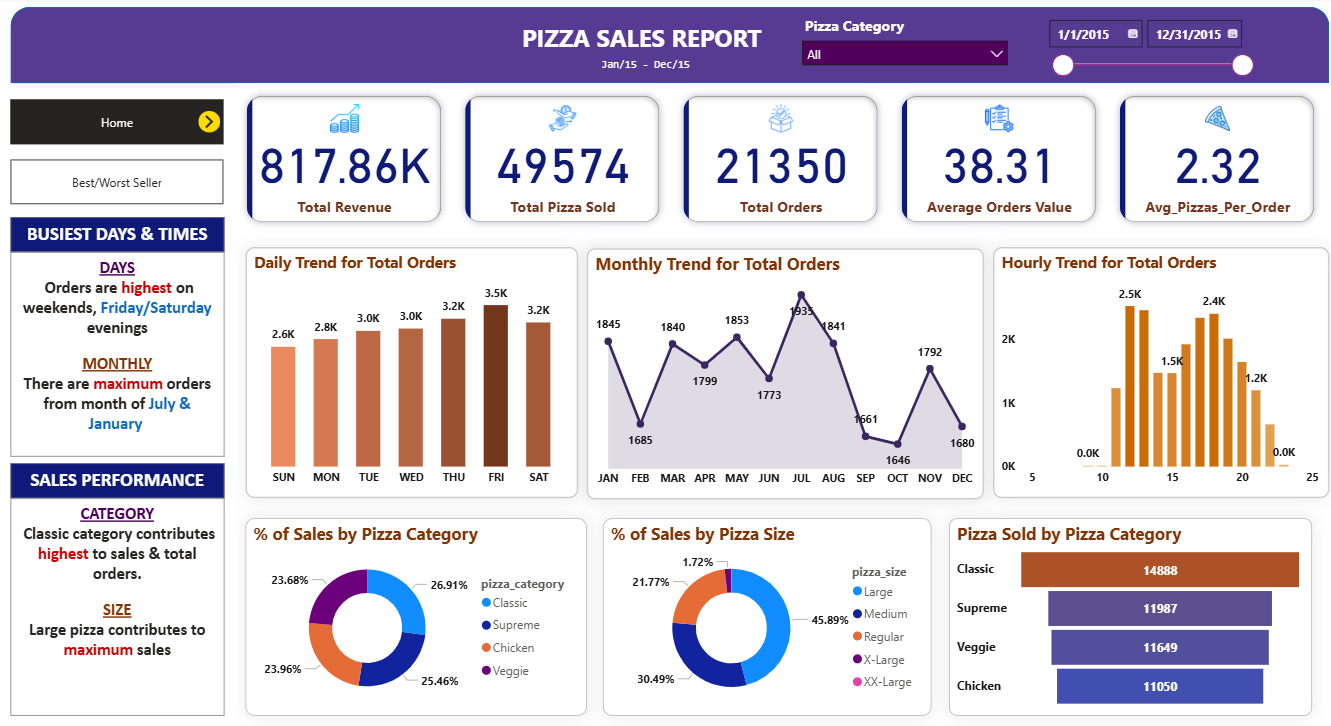

The page's visual inventory and layout, read from the dashboard file:
{"tool":"powerbi","page":{"name":"Home","canvas":[1500,820],"ordinal":0},"visuals":[{"type":"shape","box":[14,11.2,1474.3,85.2],"z":0},{"type":"cardVisual","fields":{"Data":["Measures_table.Total Revenue","Measures_table.Total Pizza Sold","Measures_table.Total Orders","Measures_table.Average Orders Value","Measures_table.Avg_Pizzas_Per_Order"]},"box":[264.1,96.4,1224.1,169.1],"z":1000},{"type":"textbox","box":[566,22.4,307.4,48.9],"z":2000},{"type":"textbox","box":[648.4,60.1,150.9,36.3],"z":3000},{"type":"columnChart","title":"Daily Trend for Total Orders","fields":{"Y":["Measures_table.Total Orders"],"Category":["pizza_sales_csv_file.Order_day"]},"box":[276.7,279.5,371.7,280.9],"z":4000},{"type":"areaChart","title":"Monthly Trend for Total Orders ","fields":{"Category":["pizza_sales_csv_file.Order_month"],"Y":["Measures_table.Total Orders"]},"box":[658.2,280.9,444.4,280.9],"z":5000},{"type":"donutChart","title":"% of Sales by Pizza Category","fields":{"Category":["pizza_sales_csv_file.pizza_category"],"Y":["Measures_table.Total Revenue"]},"box":[276.7,582.7,381.5,220.8],"z":6000},{"type":"donutChart","title":"% of Sales by Pizza Size","fields":{"Y":["Measures_table.Total Revenue"],"Category":["pizza_sales_csv_file.pizza_size"]},"box":[676.3,582.7,367.5,220.8],"z":7000},{"type":"funnel","title":"Pizza Sold by Pizza Category","fields":{"Y":["Measures_table.Total Pizza Sold"],"Category":["pizza_sales_csv_file.pizza_category"]},"box":[1063.4,582.7,405.3,220.8],"z":8000},{"type":"textbox","box":[14,245.9,239,39.1],"z":9000},{"type":"textbox","box":[14,521.2,239,39.1],"z":10000},{"type":"textbox","box":[14,285.1,239,229.2],"z":11000},{"type":"textbox","box":[14,560.4,239,243.2],"z":12000},{"type":"slicer","fields":{"Values":["pizza_sales_csv_file.pizza_category"]},"box":[888.9,16,250.2,77.1],"z":13000},{"type":"slicer","fields":{"Values":["pizza_sales_csv_file.order_date"]},"box":[1162.5,16,250.2,77.1],"z":14000},{"type":"pageNavigator","box":[14,114.6,239,50.3],"z":15000},{"type":"pageNavigator","box":[14,181.7,239,50.3],"z":16000},{"type":"image","box":[219.4,120.2,33.5,39.1],"z":17000},{"type":"columnChart","title":"Hourly Trend for Total Orders","fields":{"Category":["pizza_sales_csv_file.Order_Hour"],"Y":["Measures_table.Total Orders"]},"box":[1112.3,279.5,375.9,280.9],"z":18000}]}

Visuals, with their boxes in screenshot pixels (x1, y1, x2, y2), scaled from the page's 1500x820 canvas onto the 1331x726 screenshot:
shape: {"x1": 12, "y1": 10, "x2": 1321, "y2": 85}
cardVisual - Measures_table.Total Revenue x Measures_table.Total Pizza Sold: {"x1": 234, "y1": 85, "x2": 1321, "y2": 235}
textbox: {"x1": 502, "y1": 20, "x2": 775, "y2": 63}
textbox: {"x1": 575, "y1": 53, "x2": 709, "y2": 85}
"Daily Trend for Total Orders" columnChart: {"x1": 246, "y1": 247, "x2": 575, "y2": 496}
"Monthly Trend for Total Orders " areaChart: {"x1": 584, "y1": 249, "x2": 978, "y2": 497}
"% of Sales by Pizza Category" donutChart: {"x1": 246, "y1": 516, "x2": 584, "y2": 711}
"% of Sales by Pizza Size" donutChart: {"x1": 600, "y1": 516, "x2": 926, "y2": 711}
"Pizza Sold by Pizza Category" funnel: {"x1": 944, "y1": 516, "x2": 1303, "y2": 711}
textbox: {"x1": 12, "y1": 218, "x2": 224, "y2": 252}
textbox: {"x1": 12, "y1": 461, "x2": 224, "y2": 496}
textbox: {"x1": 12, "y1": 252, "x2": 224, "y2": 455}
textbox: {"x1": 12, "y1": 496, "x2": 224, "y2": 711}
slicer - pizza_sales_csv_file.pizza_category: {"x1": 789, "y1": 14, "x2": 1011, "y2": 82}
slicer - pizza_sales_csv_file.order_date: {"x1": 1032, "y1": 14, "x2": 1254, "y2": 82}
pageNavigator: {"x1": 12, "y1": 101, "x2": 224, "y2": 146}
pageNavigator: {"x1": 12, "y1": 161, "x2": 224, "y2": 205}
image: {"x1": 195, "y1": 106, "x2": 224, "y2": 141}
"Hourly Trend for Total Orders" columnChart: {"x1": 987, "y1": 247, "x2": 1321, "y2": 496}
